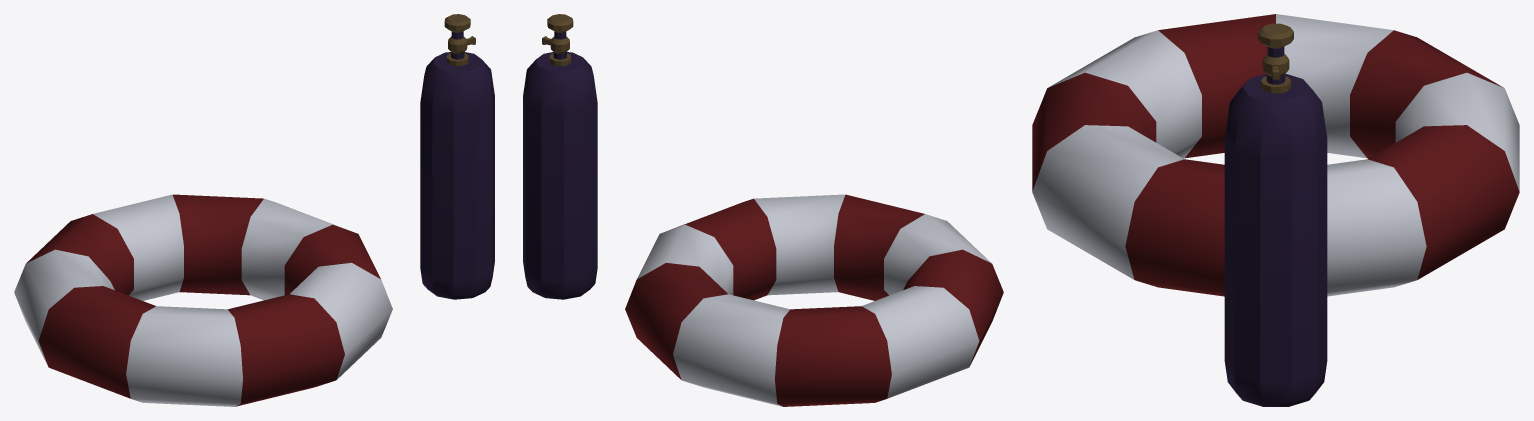
The model's file is Круг и Балон.fbx.
3 renders of one model, left to right at view 1: azimuth 30°, elevation 25°; view 2: azimuth 150°, elevation 25°; view 3: azimuth 270°, elevation 25°, orthographic. The views are drawn at different scales.
Parts seen in each view (by area): view 1: Torus.001, Cylinder; view 2: Torus.001, Cylinder; view 3: Torus.001, Cylinder.
Boxes of the visible parts, bbox=[...] form: Torus.001: bbox=[14, 194, 392, 406]; Cylinder: bbox=[420, 14, 494, 299]; Torus.001: bbox=[625, 194, 1003, 406]; Cylinder: bbox=[523, 14, 597, 299]; Torus.001: bbox=[1032, 14, 1519, 296]; Cylinder: bbox=[1224, 23, 1327, 406].
Bounding box in the file's own units: 281 × 160 × 196.
